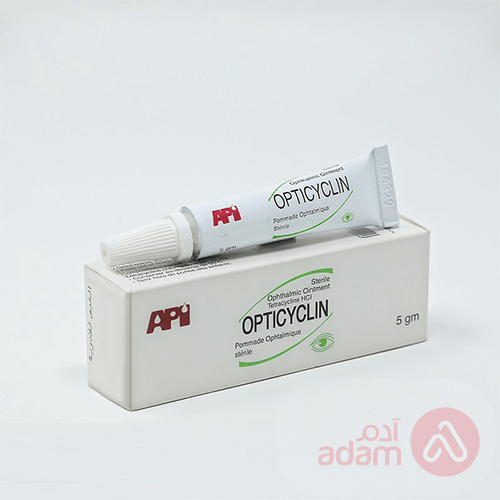Medicine: (73, 211, 437, 414), (99, 143, 413, 269)
